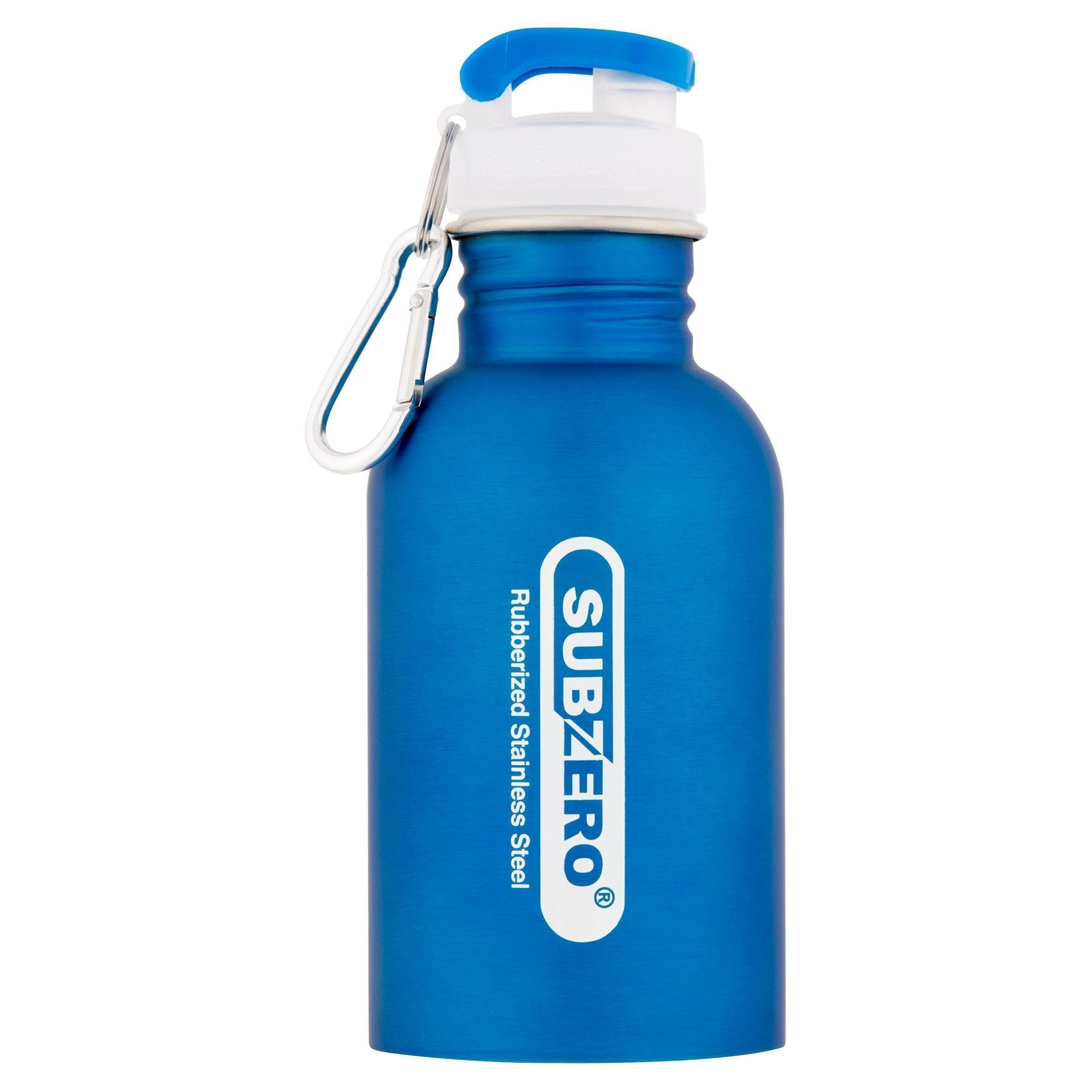gym bottle: (349, 14, 794, 1078)
